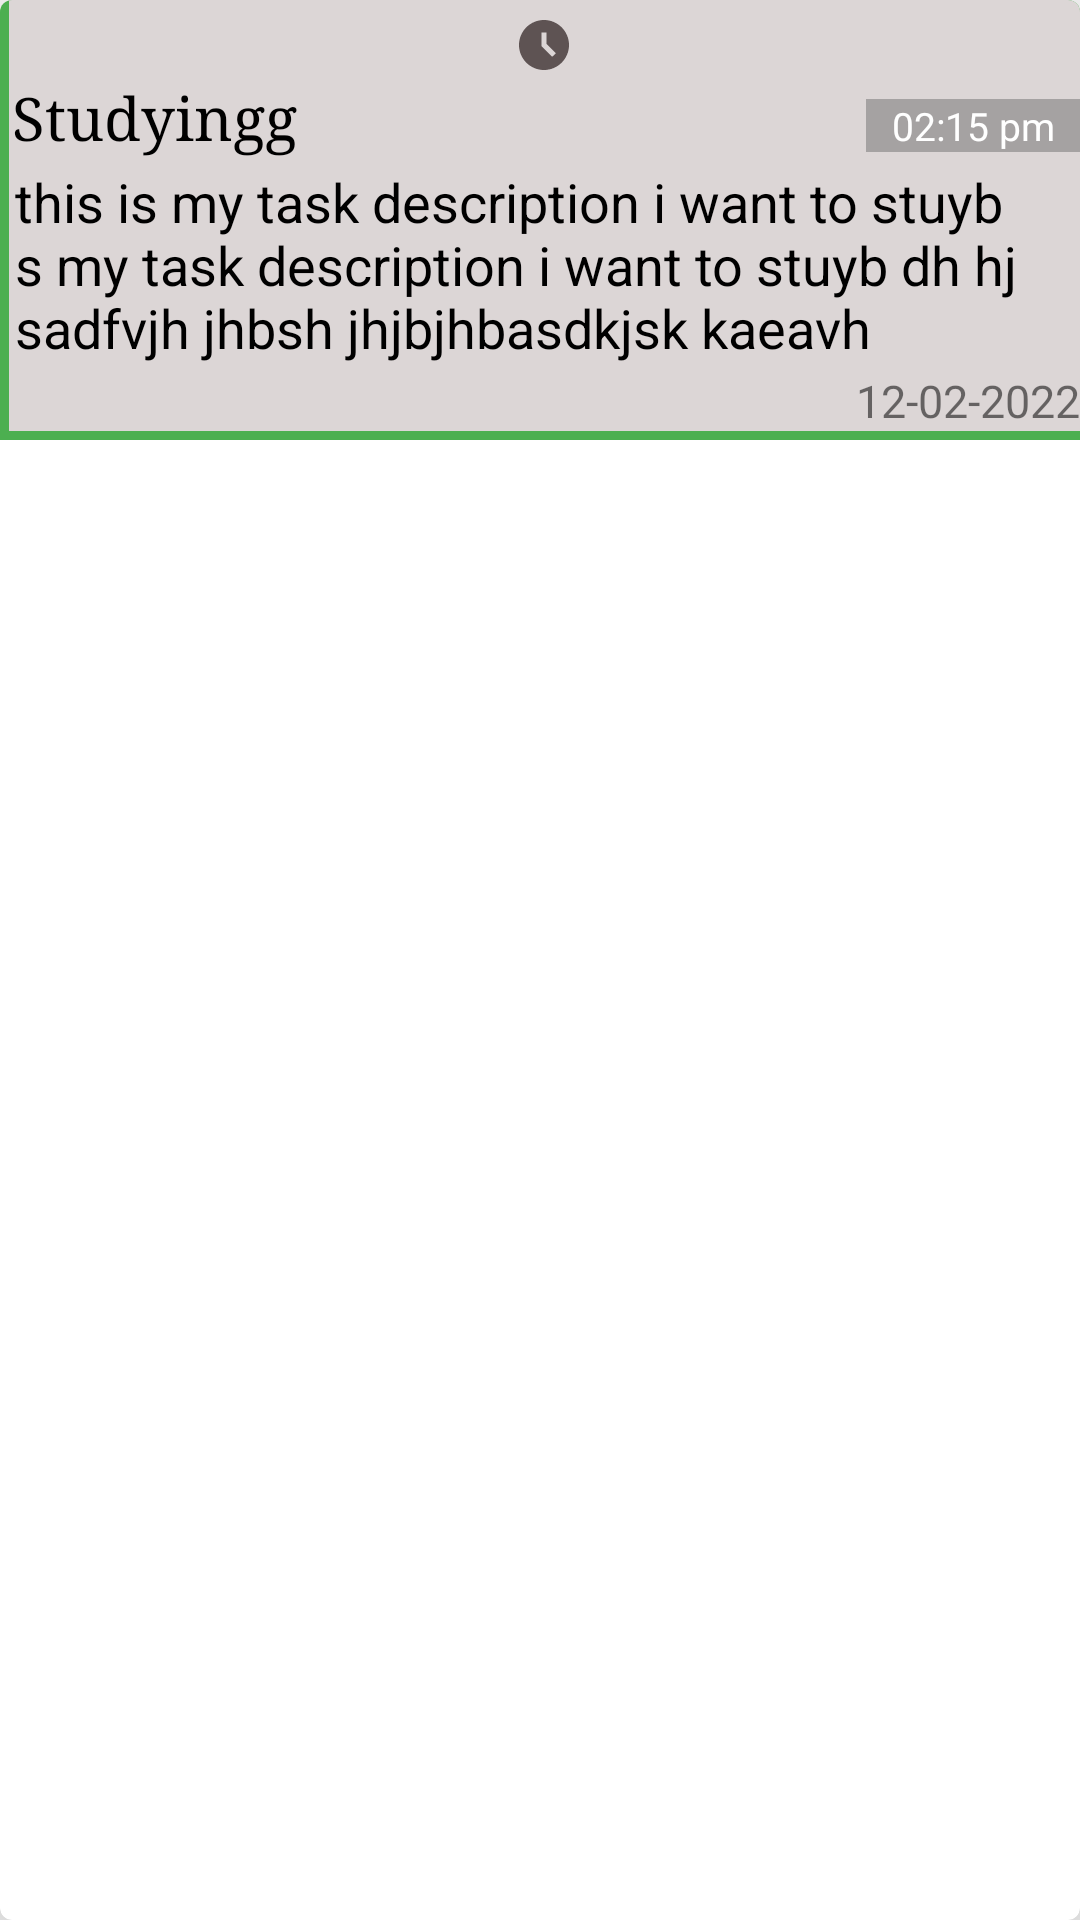

Screen size 1080px x 1920px. Icon name, then its center in pixels as point (x, y):
access time: point (544, 45)
